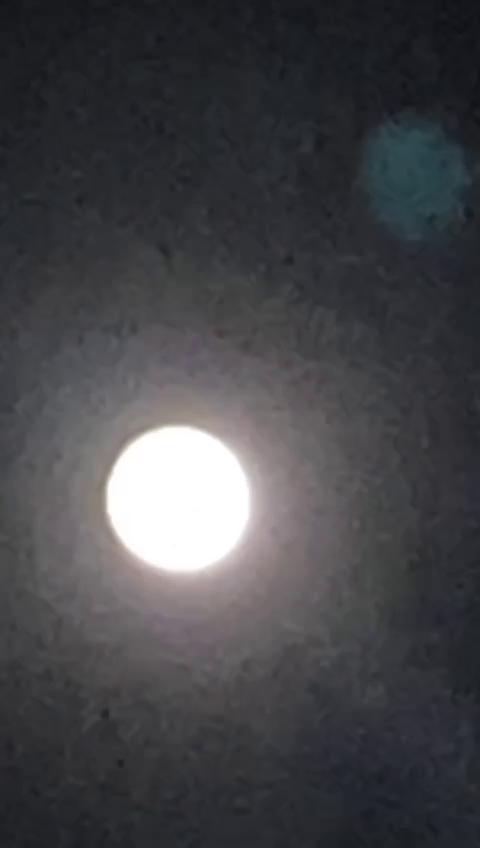moon: (103, 400, 270, 590)
